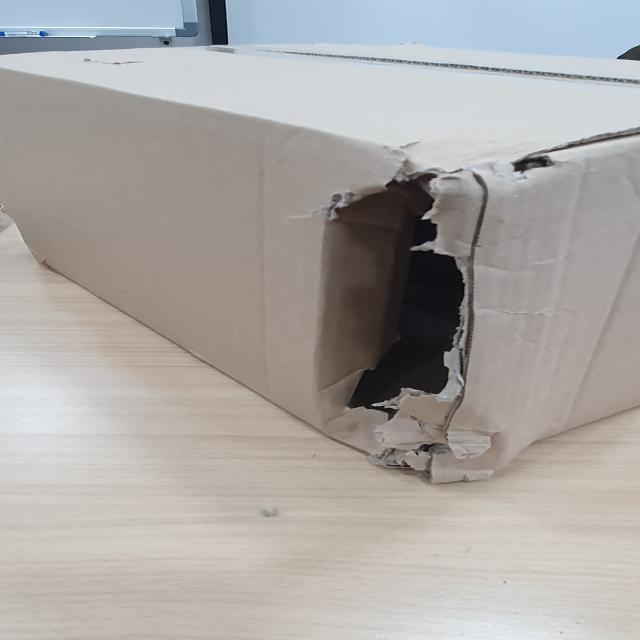hole: (317, 156, 496, 458)
